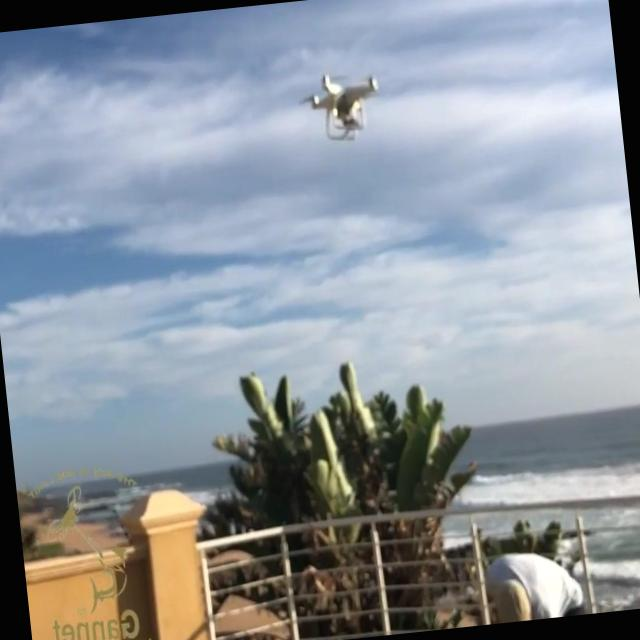drone: (302, 67, 382, 147)
